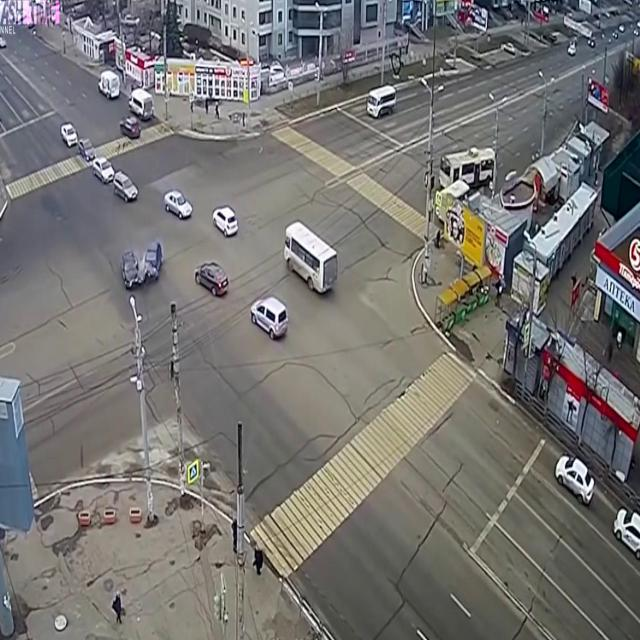accident: (111, 236, 171, 306)
non_accident: (60, 115, 144, 215)
